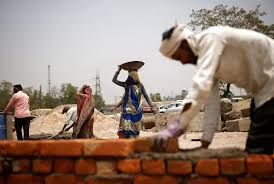arm: (171, 27, 225, 152), (21, 94, 33, 117), (1, 94, 15, 113)
helmet: (119, 54, 146, 71), (10, 81, 23, 92)
human: (111, 54, 152, 134), (4, 79, 33, 139)
leg: (13, 116, 22, 139), (22, 116, 31, 139)
nohelmet: (10, 81, 23, 92)
vest: (120, 77, 146, 117), (9, 91, 29, 117)
